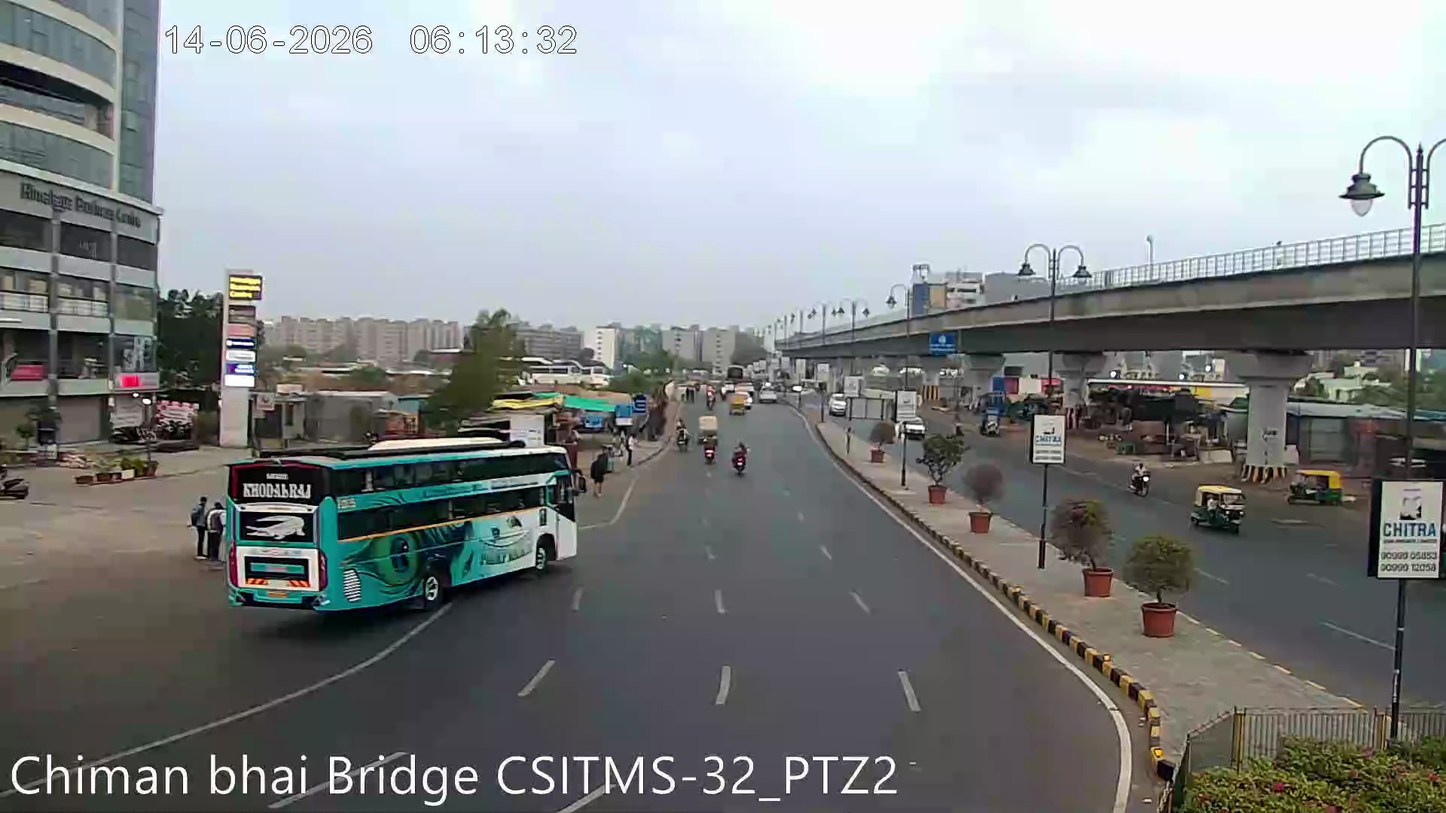auto_rickshaw: (1188, 478, 1247, 535), (1286, 463, 1347, 507), (727, 385, 752, 415), (700, 411, 720, 439)
bus: (199, 444, 592, 599)
car: (900, 414, 927, 439)
pedestrian: (701, 435, 719, 473), (674, 415, 692, 452)
two_wheeler: (1127, 457, 1153, 500), (729, 436, 752, 481), (700, 434, 719, 469)
